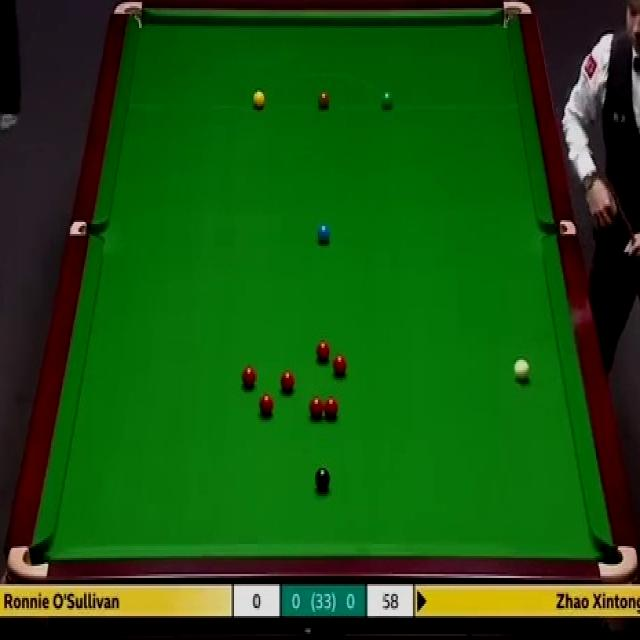black-ball: (315, 467, 331, 493)
blue-ball: (317, 224, 330, 242)
brown-ball: (317, 92, 330, 109)
green-ball: (382, 88, 396, 112)
red-ball: (280, 368, 295, 394), (308, 396, 324, 418), (316, 339, 331, 362), (241, 365, 256, 387), (260, 394, 274, 417), (333, 355, 346, 374), (325, 397, 337, 417)
white-ball: (512, 357, 530, 383)
yellow-ball: (252, 87, 265, 110)
